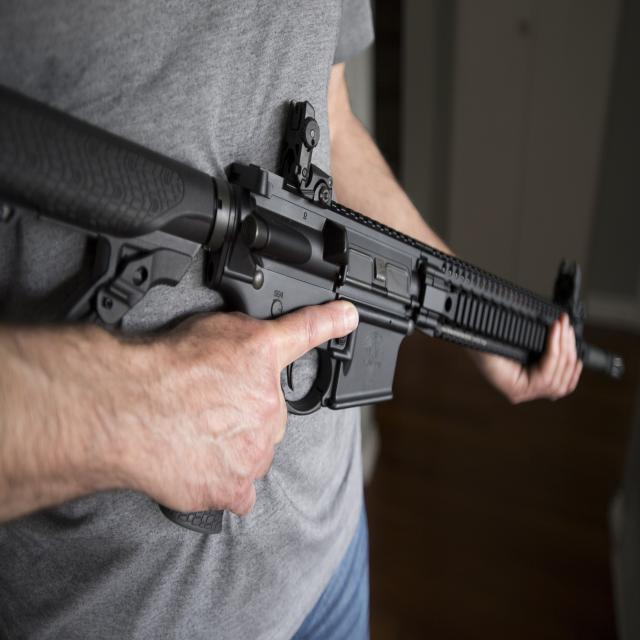Rifle: (0, 85, 626, 417)
